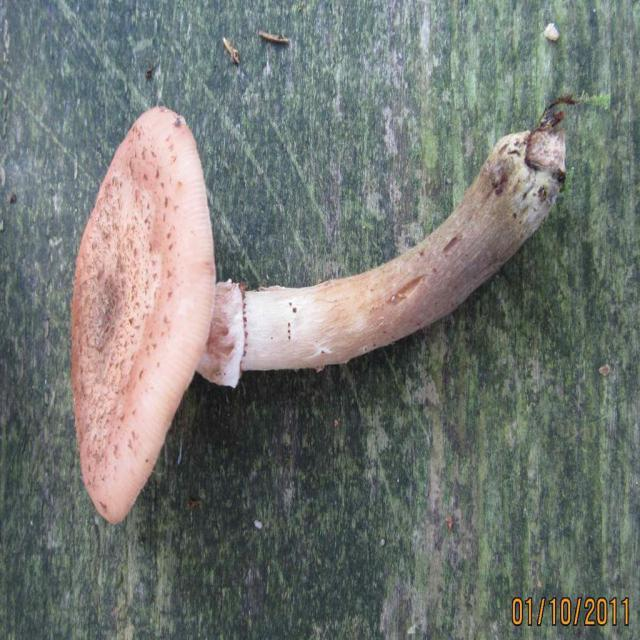Armillaria mellea: (68, 104, 566, 527)
